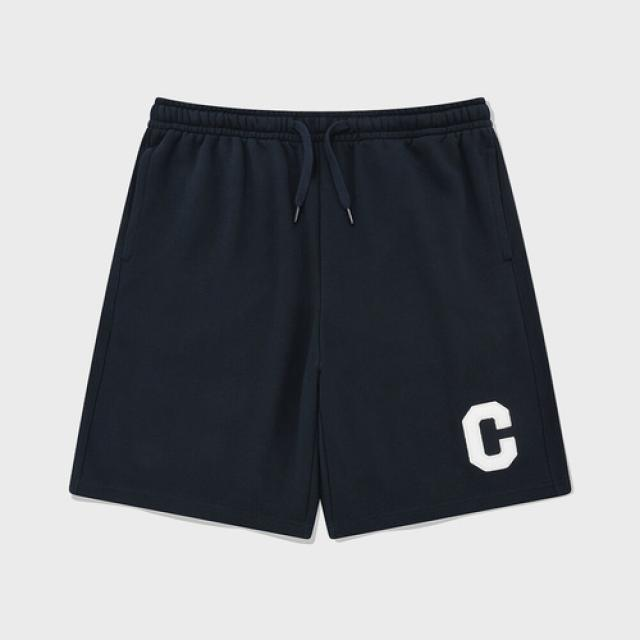dress: (67, 96, 576, 535)
